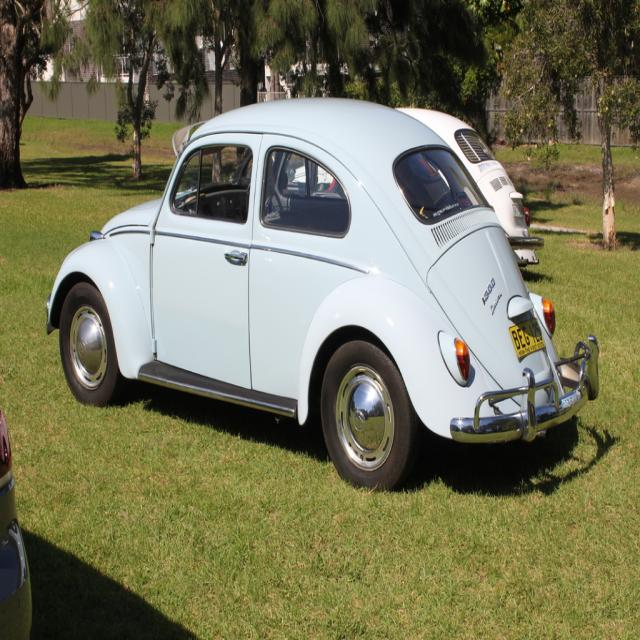car: (45, 95, 598, 493)
